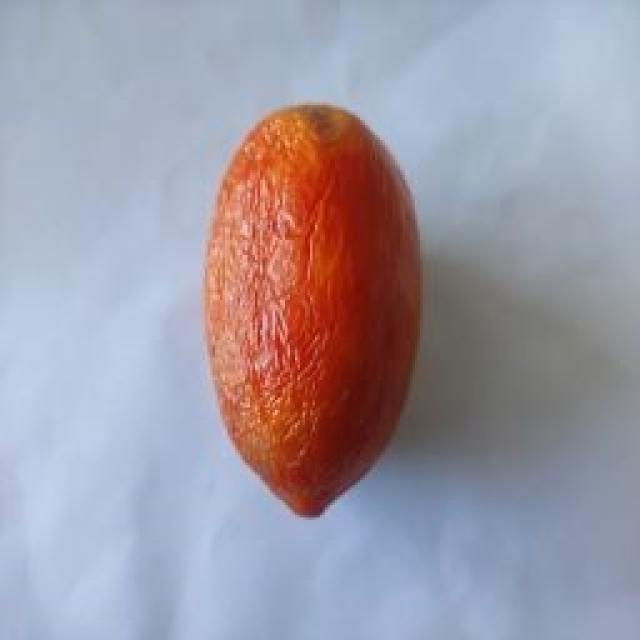overripe: (205, 98, 425, 511)
